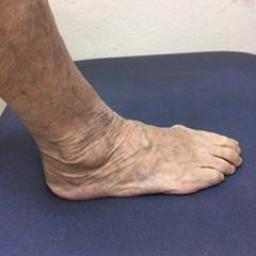Lateral View -Right Foot-: (8, 104, 250, 204)
